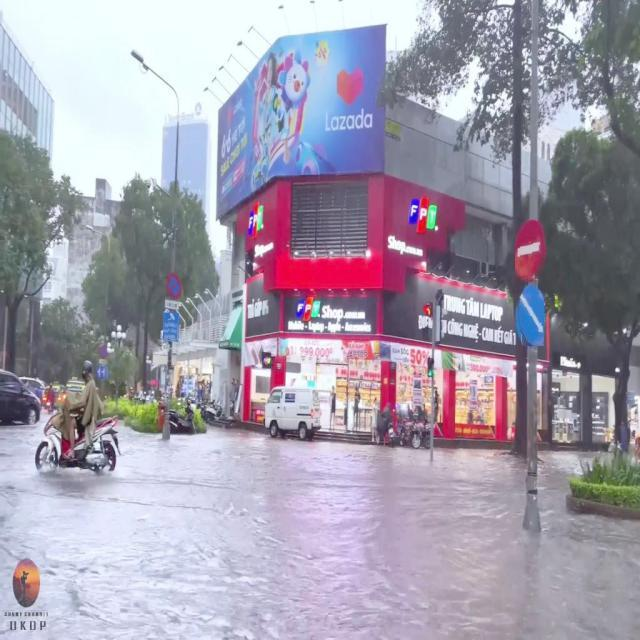102-cam-di-nguoc-chieu: (514, 220, 546, 280)
130-cam-dung-va-do-xe: (166, 272, 181, 298)
302a-huong-phai-di-vong-chuong-ngai-vat-1: (516, 284, 546, 348)
